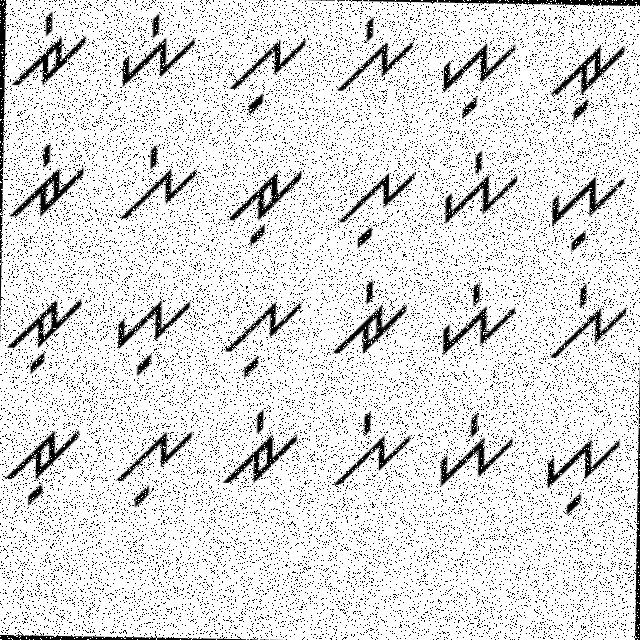le: (328, 13, 419, 104), (109, 140, 200, 227), (544, 278, 630, 368), (330, 406, 415, 497)
lu: (220, 21, 312, 116), (218, 286, 307, 384), (334, 159, 420, 252), (114, 418, 195, 512)
re: (331, 273, 409, 369), (5, 138, 86, 225), (222, 406, 303, 490), (7, 8, 88, 92)
ru: (6, 286, 90, 382), (544, 33, 630, 122), (221, 157, 306, 247), (2, 418, 86, 508)
ye: (110, 4, 200, 98), (430, 275, 522, 363), (438, 140, 521, 237), (432, 408, 518, 493)
yu: (533, 424, 626, 518), (540, 156, 628, 254), (428, 30, 520, 120), (110, 286, 194, 381)
